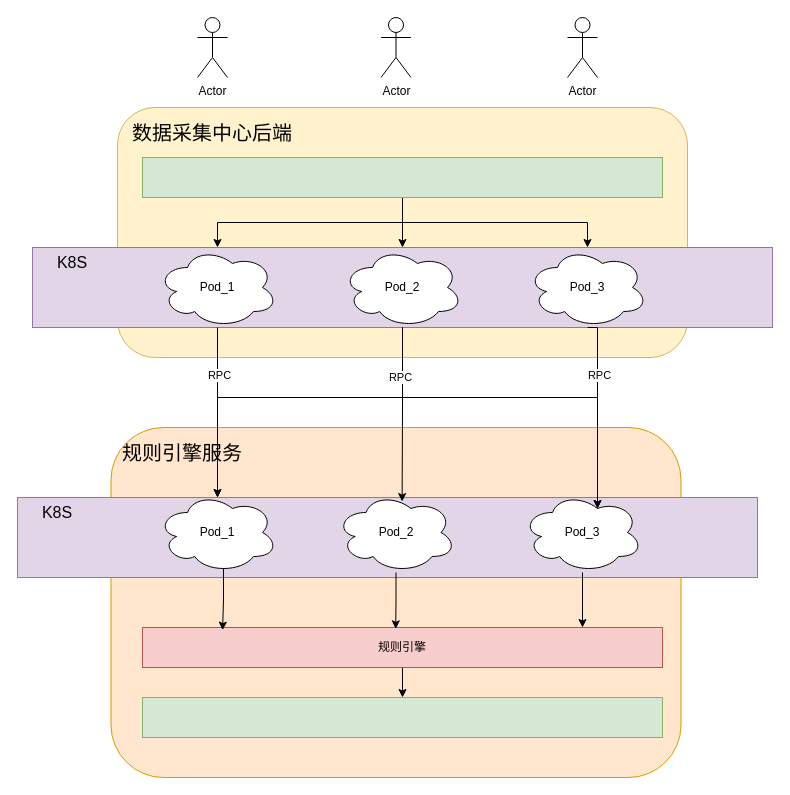
The diagram is 790 pixels wide and 795 high, and some of its shapes have lost their labels. The centre of each missing label's shape, as x and y in pixels:
ElasticSearch: point 402,177
Msql: point 402,717
